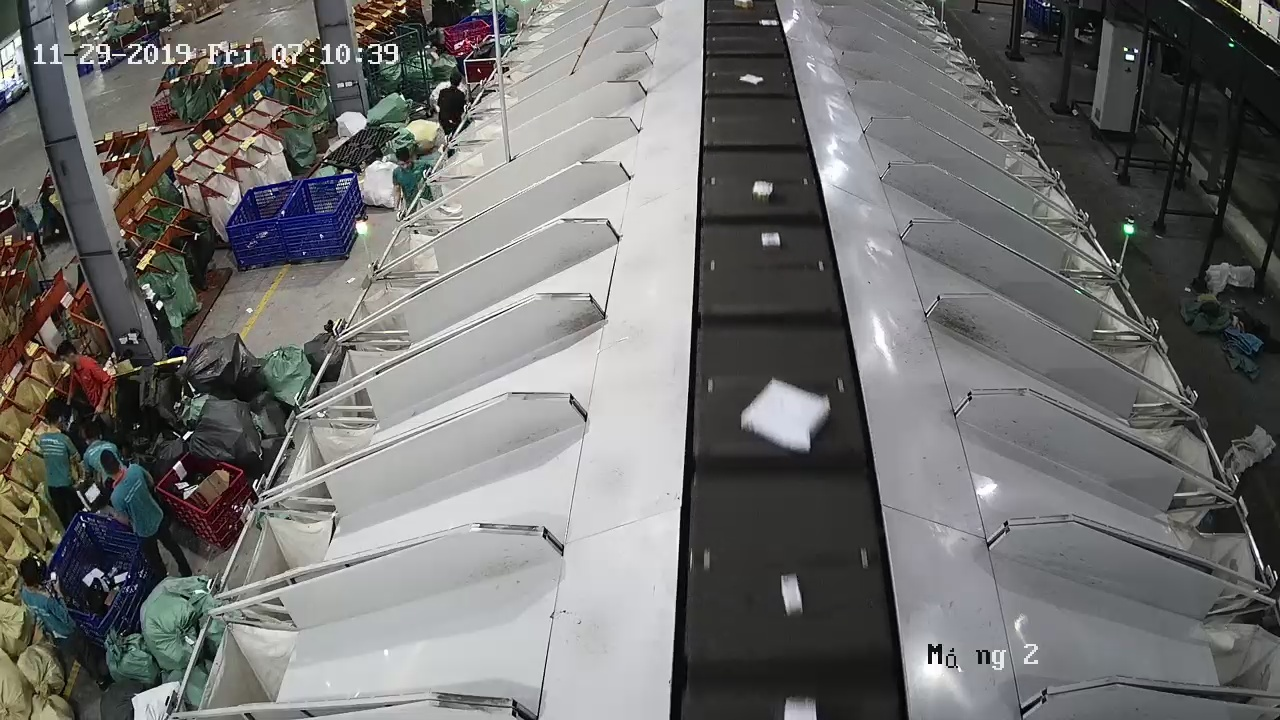parcel: (740, 377, 831, 454), (781, 572, 803, 617), (752, 180, 774, 202), (761, 231, 781, 251)
